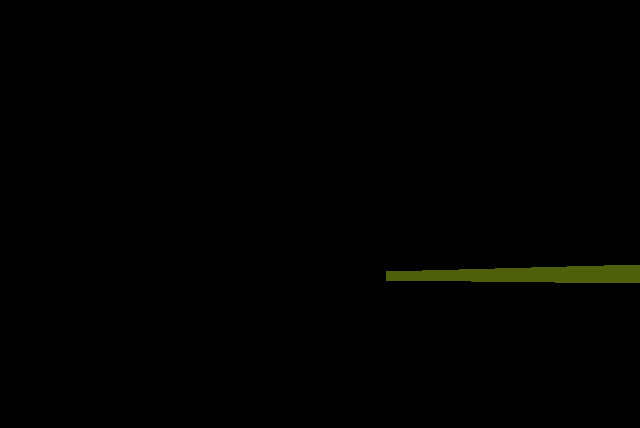Train: (386, 264, 640, 284)
